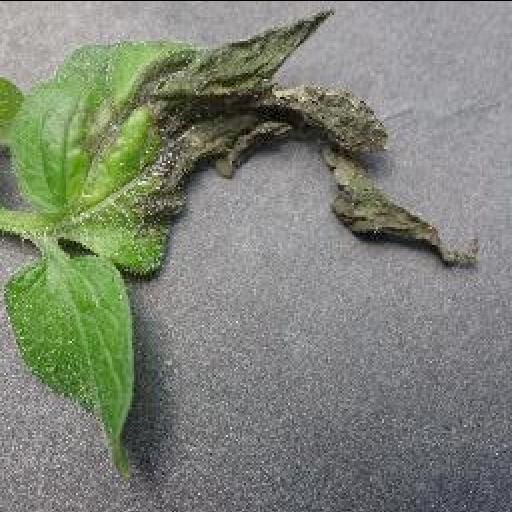disease_tomato: (12, 10, 486, 274)
